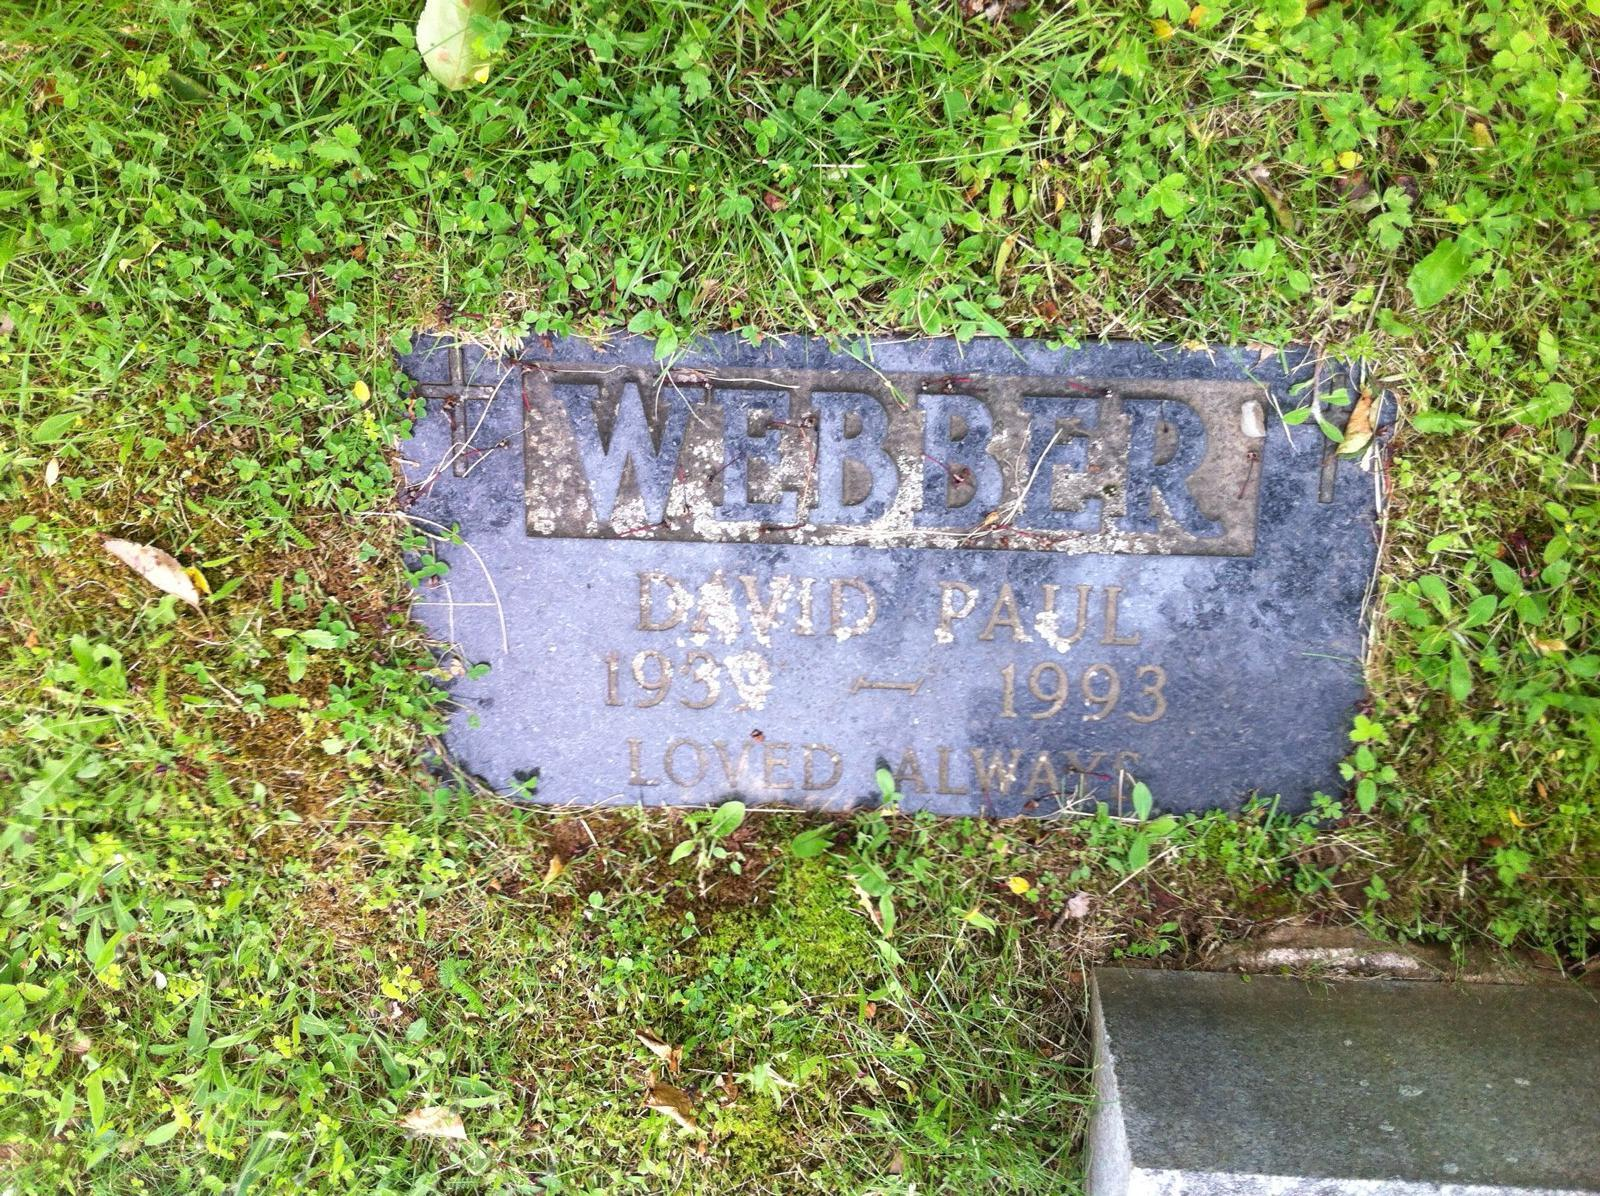flat: (323, 254, 1461, 874)
